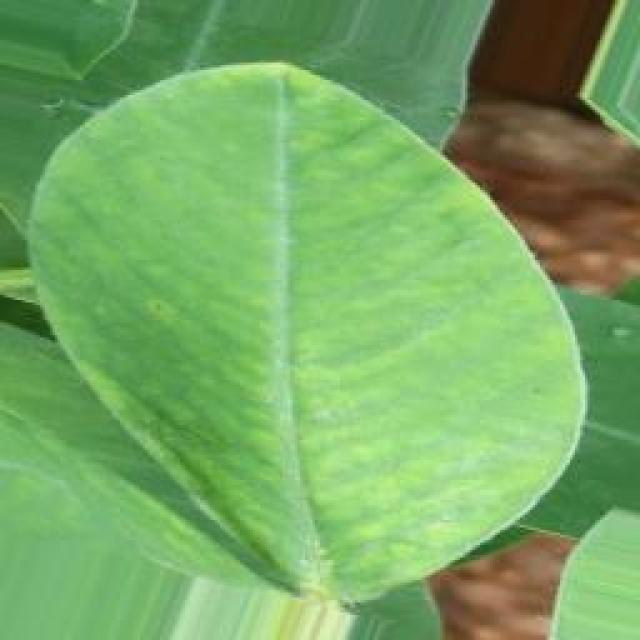Sigatoka: (130, 287, 181, 333)
